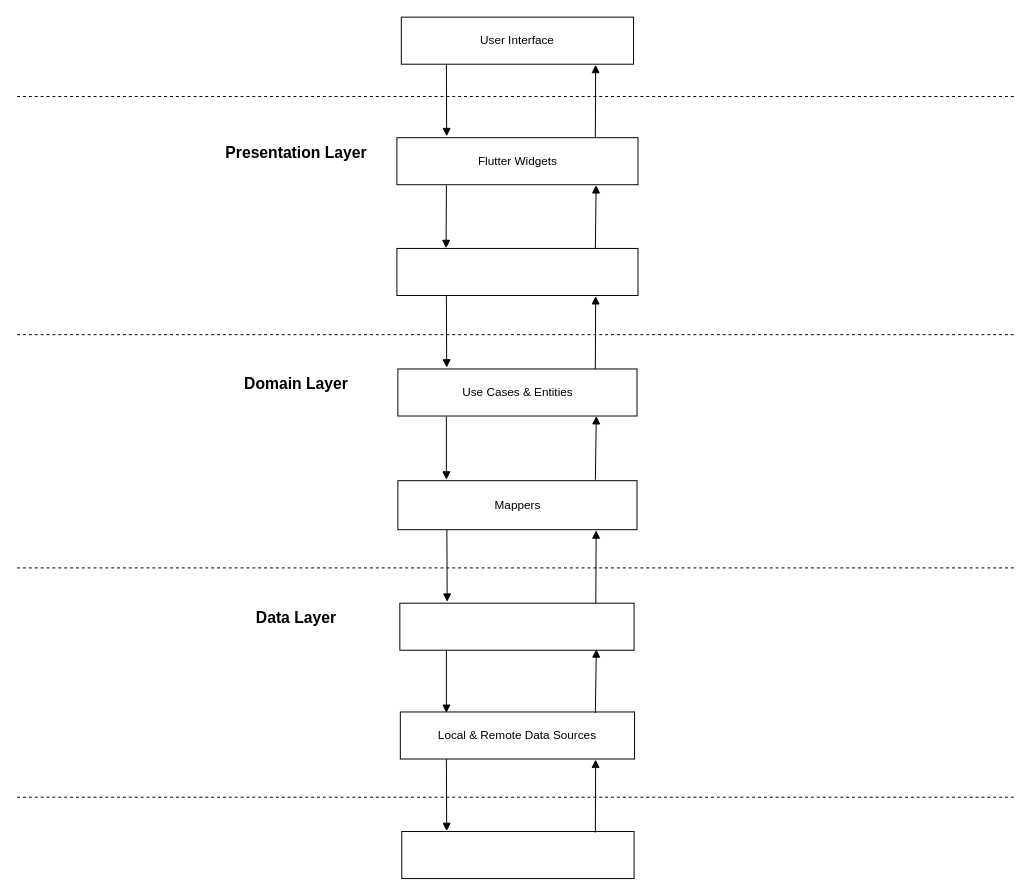
The diagram is 1035 pixels wide and 896 high, and some of its shapes have lost their labels. The shapes that lost their labels are listed below. From the top down, each one's centre as x and y in pixels, then its label:
the point at 517,271: Bloc (State Management)
the point at 516,626: Repositories & Models
the point at 517,855: Local Database & External API
